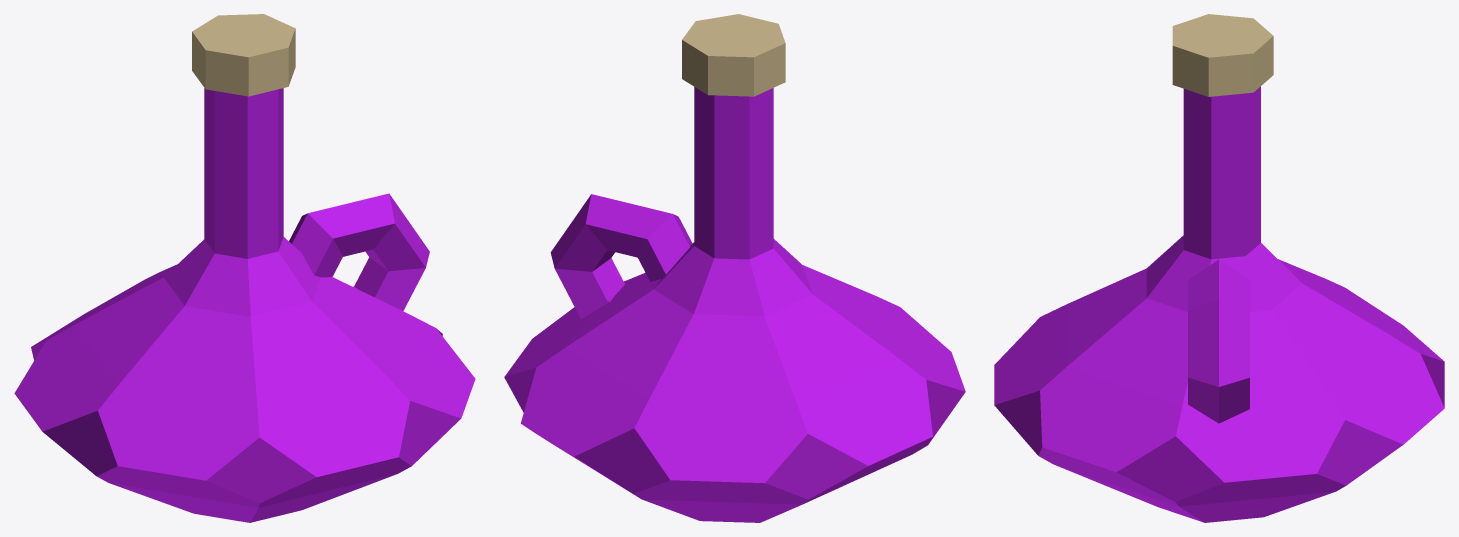
Rendered from HandlePotion.016.fbx.
3 renders of one model, left to right at view 1: azimuth 30°, elevation 25°; view 2: azimuth 150°, elevation 25°; view 3: azimuth 270°, elevation 25°, orthographic.
Visible parts, largest first — view 1: HandlePotion.016; view 2: HandlePotion.016; view 3: HandlePotion.016.
Boxes of the visible parts, bbox=[...] form: HandlePotion.016: bbox=[14, 14, 475, 522]; HandlePotion.016: bbox=[504, 14, 965, 522]; HandlePotion.016: bbox=[994, 14, 1444, 522].
Size of the model in its own units: 17.35 by 18.99 by 16.91.
